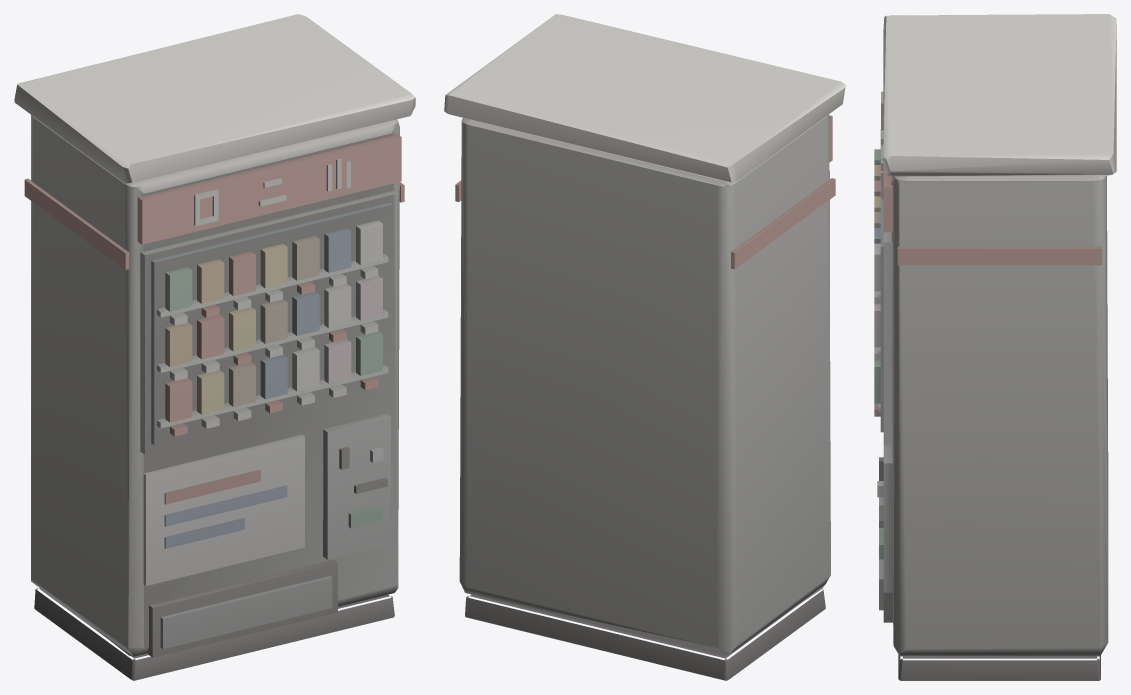
File: vending.lod1.glb
3 renders of one model, left to right at view 1: azimuth 30°, elevation 25°; view 2: azimuth 150°, elevation 25°; view 3: azimuth 270°, elevation 25°, orthographic.
Bounding box in the file's own units: 1.11 × 1.89 × 0.7814.
